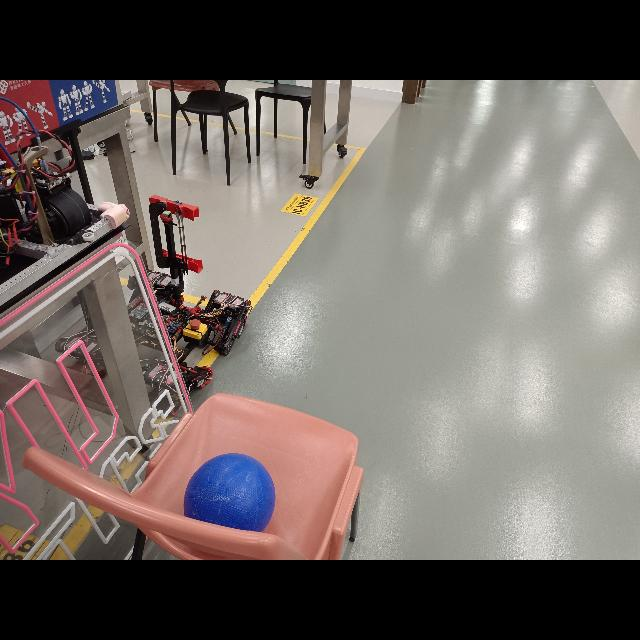B: (182, 451, 278, 535)
